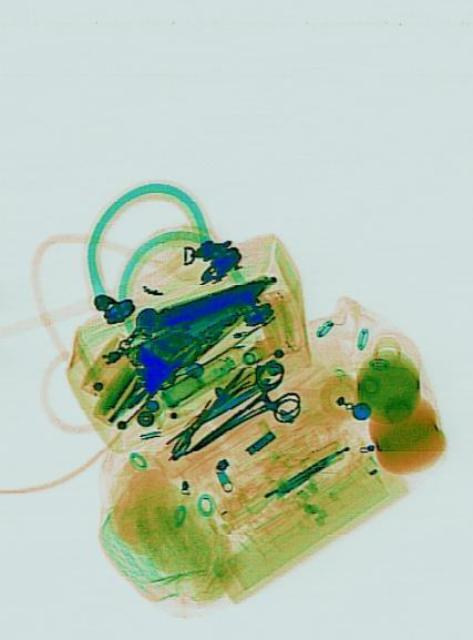Scissors: (173, 350, 304, 480)
